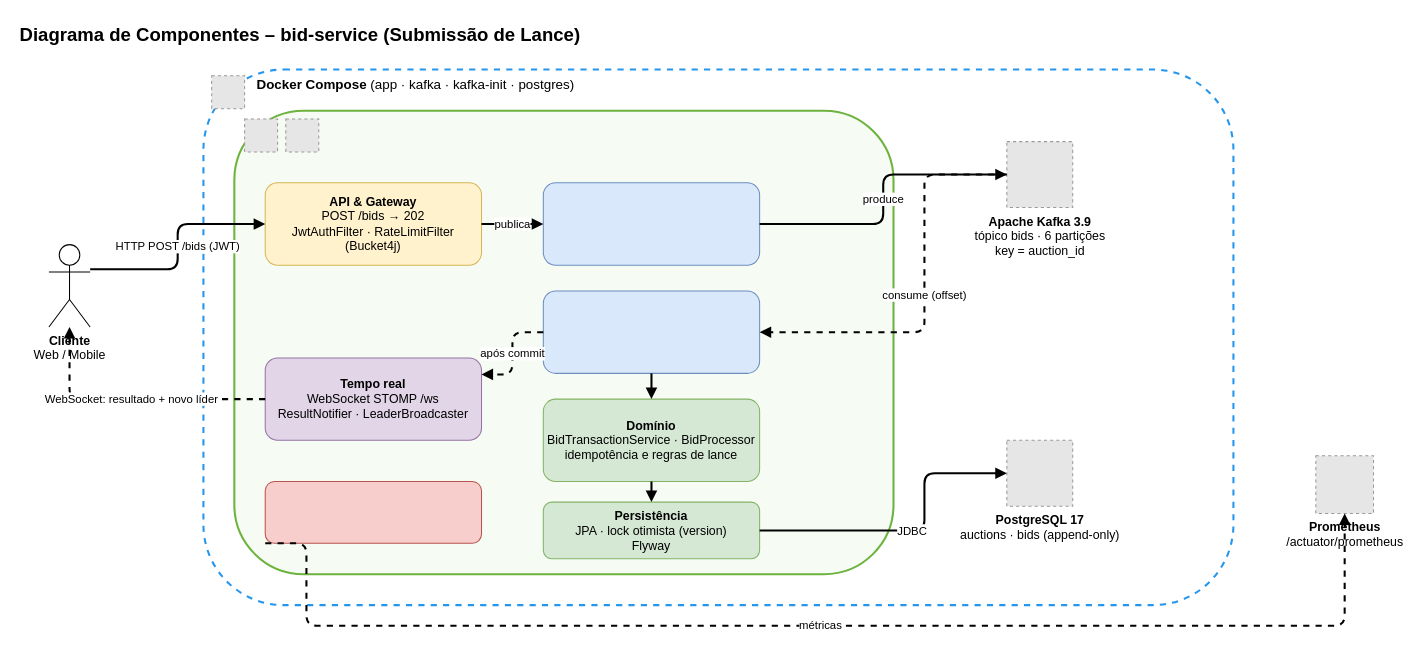
Some shapes in this 1420 by 652 pixel diagram are drawn without their labels. Grey dashed boxes stand in for pictures. Here are the shapes that lost their labels. From the top down, the box of each, then its label:
(542, 182, 760, 265): Pipeline (Producer) BidPipeline / KafkaBidPipeline risk_tier no header
(233, 109, 894, 575): bid-service Java 21 · Spring Boot 4
(542, 290, 760, 373): Consumer BidListener (ack manual) 1 consumer por partição
(264, 480, 482, 543): Observabilidade BidLogger (JSON) · BidMetrics
